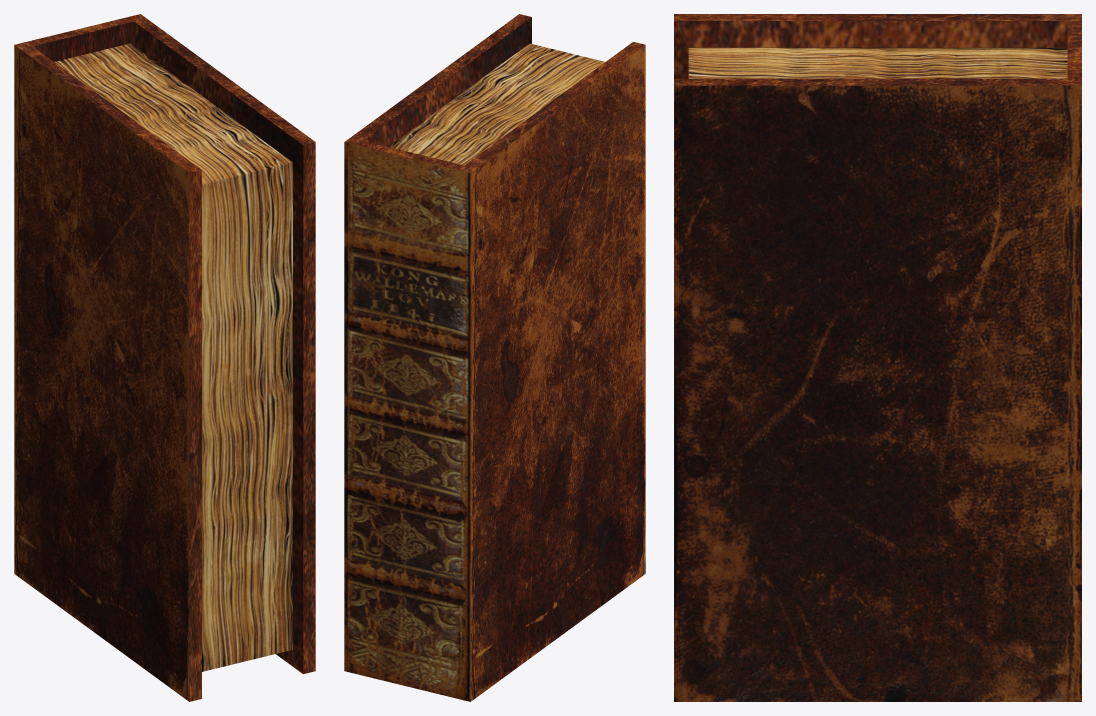
Rendered from oldbook1.glb.
3 views of the same model, side by side, from view 1: azimuth 30°, elevation 25°; view 2: azimuth 150°, elevation 25°; view 3: azimuth 270°, elevation 25° (orthographic). The views are drawn at different scales.
Visible parts, largest first — view 1: Cube; view 2: Cube; view 3: Cube.
Part boxes in pixels (box(x1,y1,x2,y2)): Cube: box(14, 14, 315, 701); Cube: box(344, 14, 645, 701); Cube: box(674, 14, 1081, 701).
Bounding box in the file's own units: 5 × 20 × 12.
Materials: 1 (1 with a texture image).
